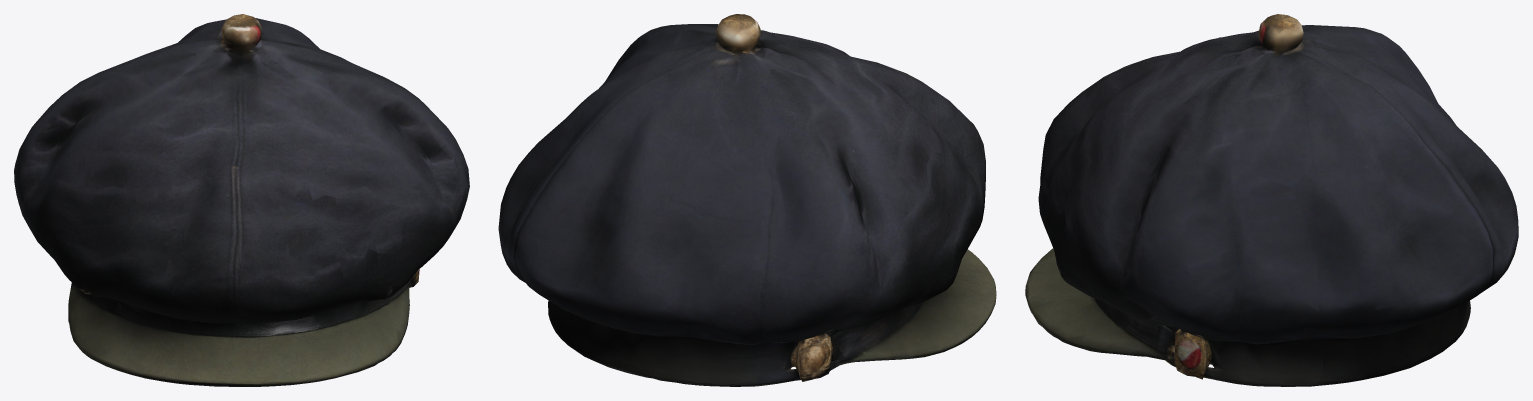
The model's file is hat2.glb.
3 renders of one model, left to right at view 1: azimuth 30°, elevation 25°; view 2: azimuth 150°, elevation 25°; view 3: azimuth 270°, elevation 25°, orthographic. The views are drawn at different scales.
Parts seen in each view (by area): view 1: Mesh1.013; view 2: Mesh1.013; view 3: Mesh1.013.
Boxes of the visible parts, <box> form: Mesh1.013: <box>14,14,469,386</box>; Mesh1.013: <box>498,14,996,386</box>; Mesh1.013: <box>1025,14,1518,386</box>.
Bounding box in the file's own units: 1.73 × 1.24 × 1.88.
1 material, 1 textured.
